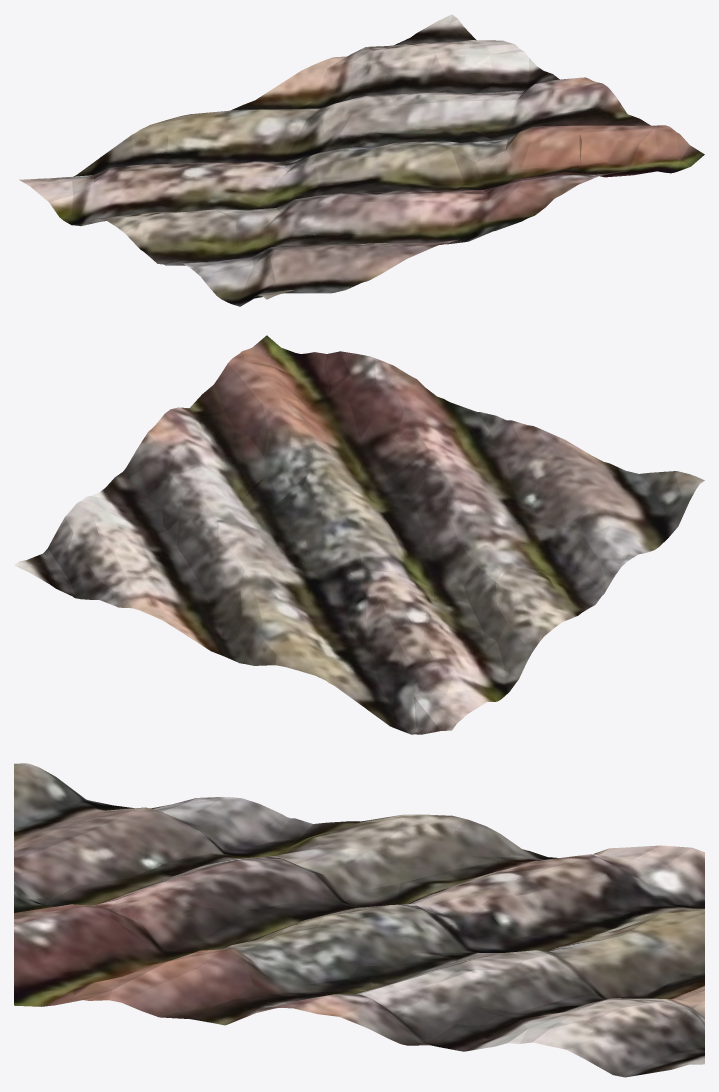
The picture shows the model from 3 angles, top to bottom: view 1: azimuth 30°, elevation 25°; view 2: azimuth 150°, elevation 25°; view 3: azimuth 270°, elevation 25°; orthographic projection. The views are drawn at different scales.
Size of the model in its own units: 0.8374 by 0.2217 by 0.8373.
3 materials, 3 textured.
